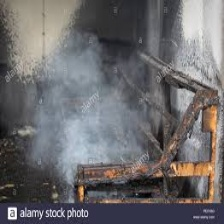smoke: (56, 74, 124, 151)
